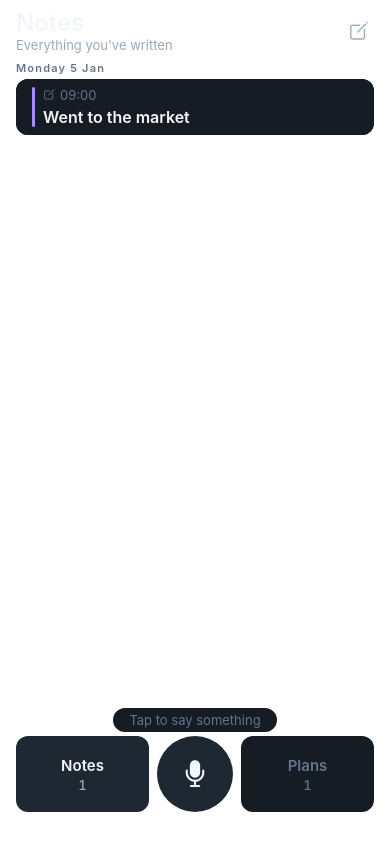
Test: notes and plans › swaps the list when the other side is pressed
Click the tab with aria-label "Plans, 1 entry". click: (308, 774)
box: left=241, top=736, right=374, bottom=812
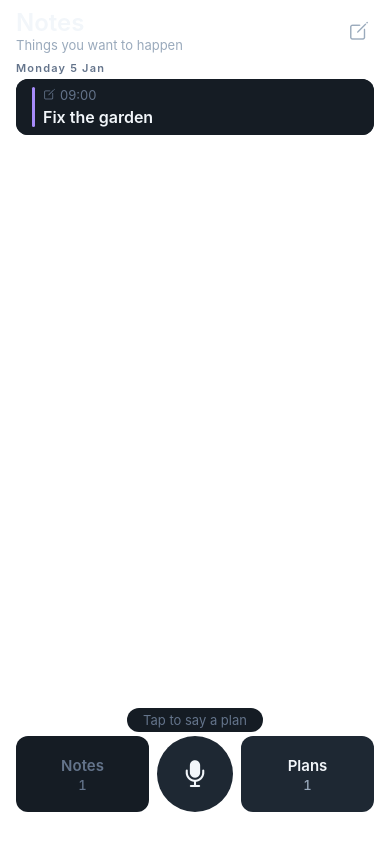
Result: the text "Fix the garden" is shown at left=43, top=107, right=153, bottom=127
Result: the button "Went to the market" is gone
